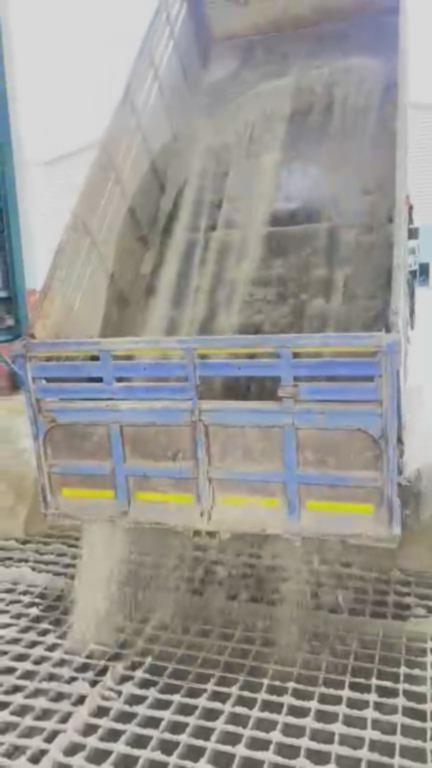sand: (72, 467, 432, 653), (139, 82, 292, 335), (1, 396, 80, 539), (271, 59, 380, 123), (55, 666, 120, 756), (316, 611, 432, 638), (1, 565, 67, 588), (208, 49, 237, 81)
